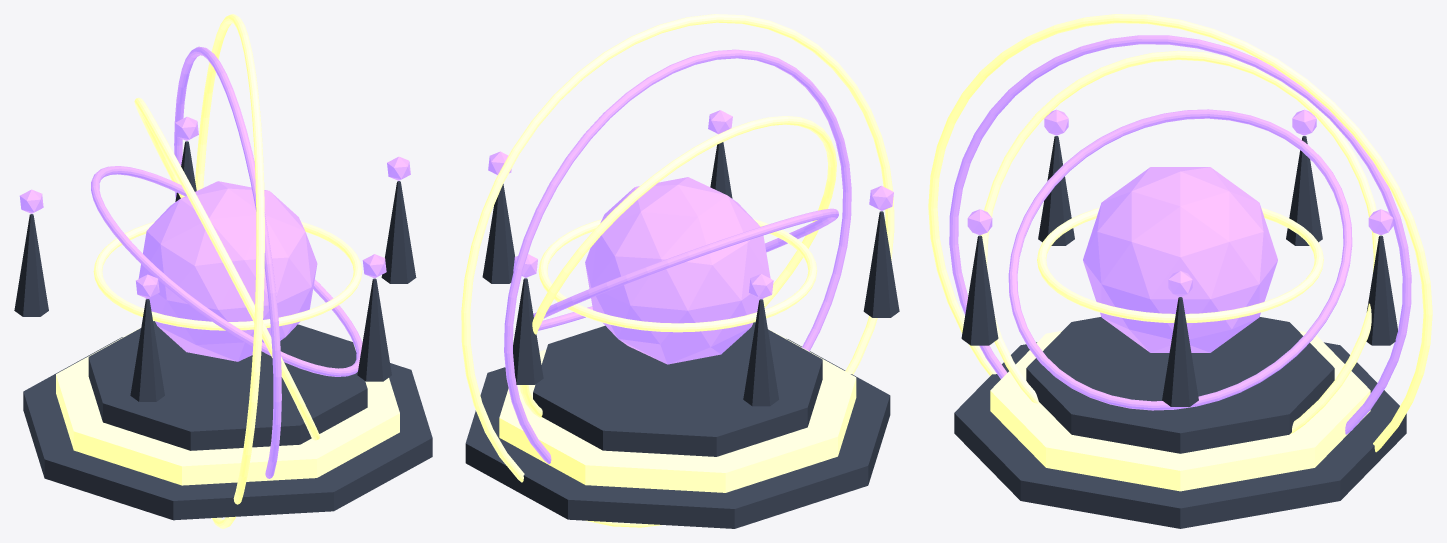
The model's file is gpu-blender-v20.glb.
3 views of the same model, side by side, from view 1: azimuth 30°, elevation 25°; view 2: azimuth 150°, elevation 25°; view 3: azimuth 270°, elevation 25° (orthographic). The views are drawn at different scales.
Parts seen in each view (by area): view 1: Cylinder.002, Cylinder, SovereignCore_jwt-inspector-guard, Cylinder.001, Torus.004, Torus.003, Torus.001, Torus, Torus.002, Cone.004, Cone.002, Cone.003 (+1 smaller); view 2: Cylinder.002, SovereignCore_jwt-inspector-guard, Cylinder, Cylinder.001, Torus.004, Torus.003, Torus.002, Torus, Torus.001, Cone.002, Cone.003, Cone (+2 smaller); view 3: SovereignCore_jwt-inspector-guard, Cylinder.002, Cylinder, Cylinder.001, Torus.004, Torus.001, Torus.003, Torus.002, Torus, Cone.004, Cone, Cone.001 (+2 smaller).
Boxes of the visible parts, <box> form: Cylinder.002: <box>88,321,367,450</box>; Cylinder: <box>23,337,432,520</box>; SovereignCore_jwt-inspector-guard: <box>138,181,317,361</box>; Cylinder.001: <box>56,328,399,485</box>; Torus.004: <box>195,14,264,528</box>; Torus.003: <box>174,46,281,478</box>; Torus.001: <box>91,166,362,376</box>; Torus: <box>93,221,362,330</box>; Torus.002: <box>134,97,320,440</box>; Cone.004: <box>357,278,391,381</box>; Cone.002: <box>14,214,48,316</box>; Cone.003: <box>130,299,164,401</box>; Cylinder.002: <box>533,322,822,456</box>; SovereignCore_jwt-inspector-guard: <box>585,177,770,364</box>; Cylinder: <box>465,338,890,528</box>; Cylinder.001: <box>499,330,856,492</box>; Torus.004: <box>461,14,894,527</box>; Torus.003: <box>504,49,851,463</box>; Torus.002: <box>519,116,836,417</box>; Torus: <box>538,219,817,332</box>; Torus.001: <box>533,208,838,330</box>; Cone.002: <box>743,299,778,406</box>; Cone.003: <box>863,211,899,317</box>; Cone: <box>482,184,514,283</box>; SovereignCore_jwt-inspector-guard: <box>1083,167,1277,352</box>; Cylinder.002: <box>1026,317,1334,453</box>; Cylinder: <box>954,342,1406,528</box>; Cylinder.001: <box>990,330,1370,491</box>; Torus.004: <box>928,14,1432,452</box>; Torus.001: <box>1008,109,1352,410</box>; Torus.003: <box>949,35,1411,434</box>; Torus.002: <box>980,50,1380,433</box>; Torus: <box>1037,207,1323,322</box>; Cone.004: <box>961,235,998,345</box>; Cone: <box>1162,297,1198,406</box>; Cone.001: <box>1366,235,1397,345</box>.
Size of the model in its own units: 4.41 by 5.33 by 4.9.
